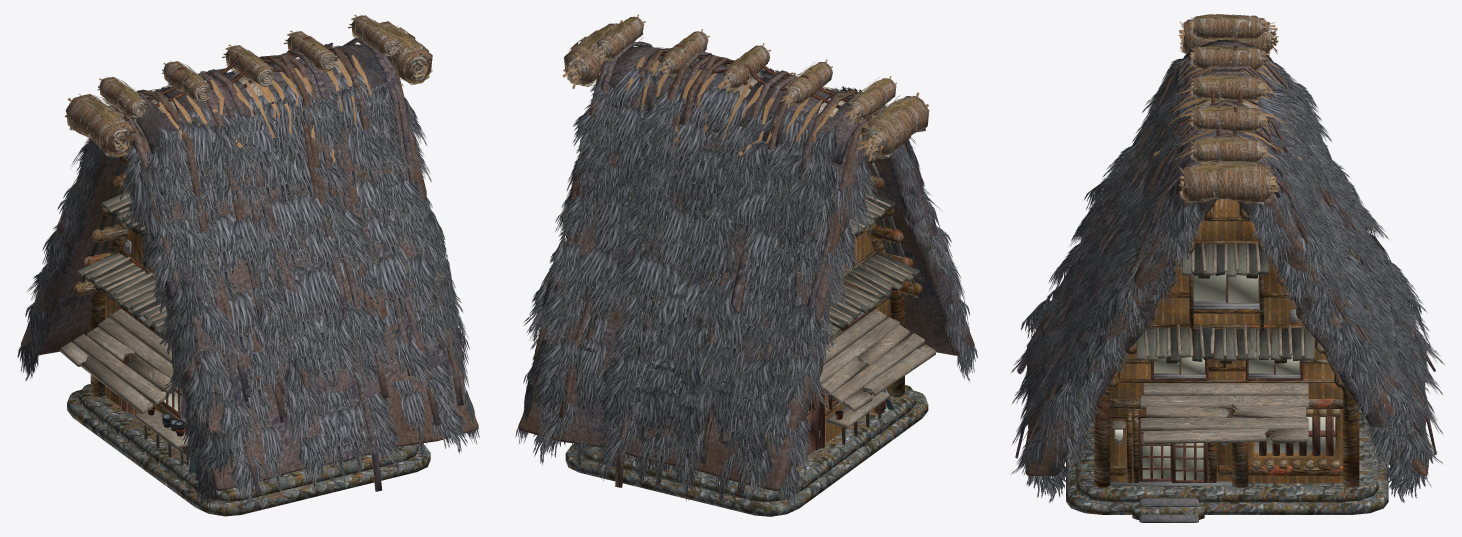
The model's file is farmhouse.glb.
The picture shows the model from 3 angles, left to right: view 1: azimuth 30°, elevation 25°; view 2: azimuth 150°, elevation 25°; view 3: azimuth 270°, elevation 25°; orthographic projection.
Visible parts, largest first — view 1: Shirakawago_House_1; view 2: Shirakawago_House_1; view 3: Shirakawago_House_1.
Part boxes in pixels (x1,y1,x2,y2): Shirakawago_House_1: [17, 15, 479, 516]; Shirakawago_House_1: [515, 14, 977, 516]; Shirakawago_House_1: [1010, 14, 1445, 522].
Bounding box in the file's own units: 1076 × 1165 × 1218.
Materials: 4 (4 with a texture image).
